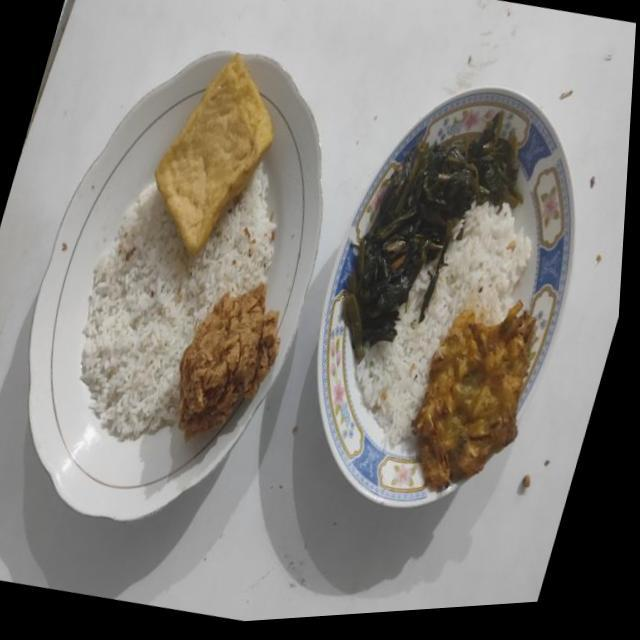nasi_putih: (80, 165, 275, 442), (357, 204, 530, 446)
tahu_goreng: (154, 54, 273, 254)
tumis_kangkung: (341, 111, 522, 359)
